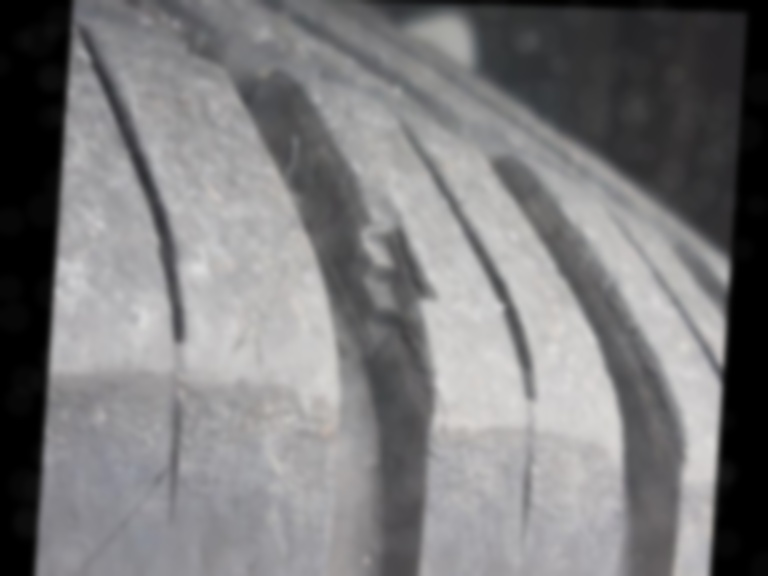temoin:80: (295, 153, 458, 369)
